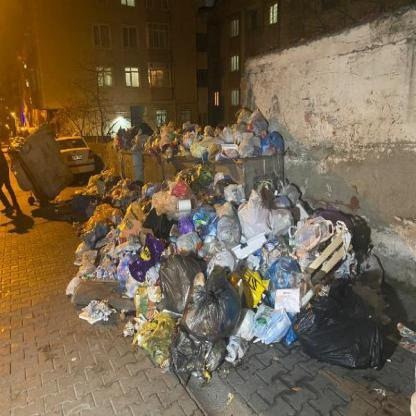Garbage: (155, 286, 282, 366), (271, 226, 368, 327), (84, 235, 172, 341), (121, 187, 207, 283), (218, 189, 299, 283), (162, 118, 232, 158), (226, 108, 284, 154), (120, 124, 173, 154)
